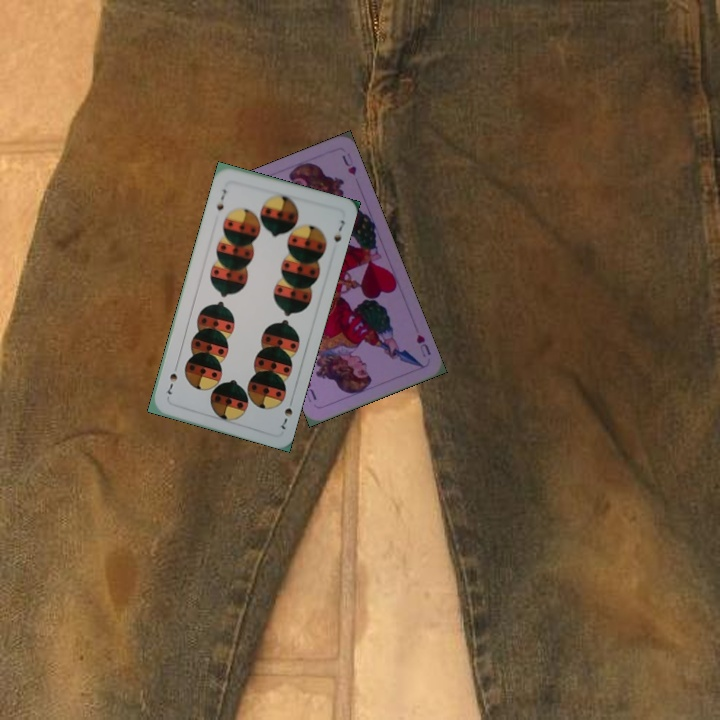HU: (412, 330, 434, 360)
S7: (277, 394, 296, 432), (212, 185, 229, 213)
